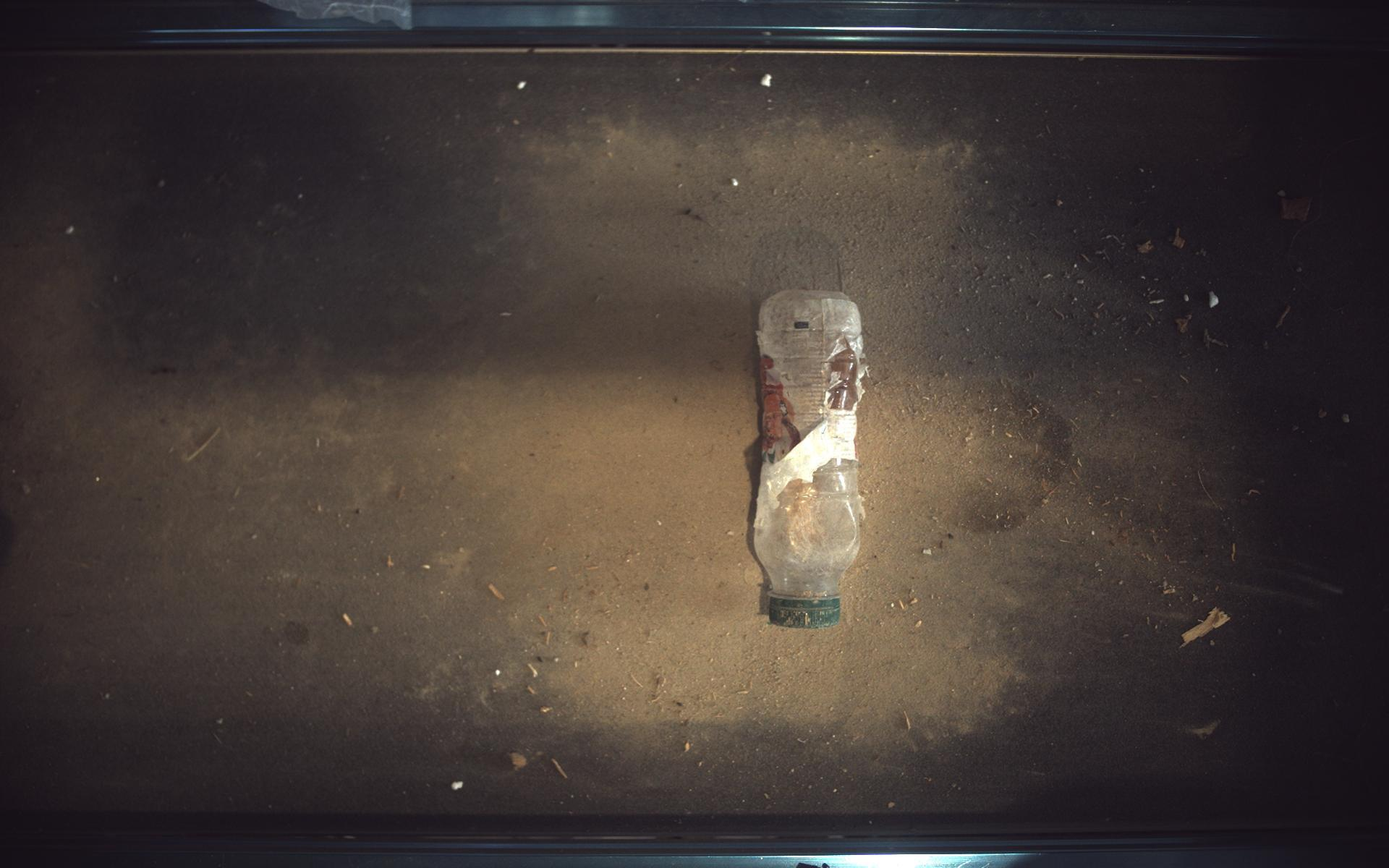general_w: (755, 290, 868, 629)
